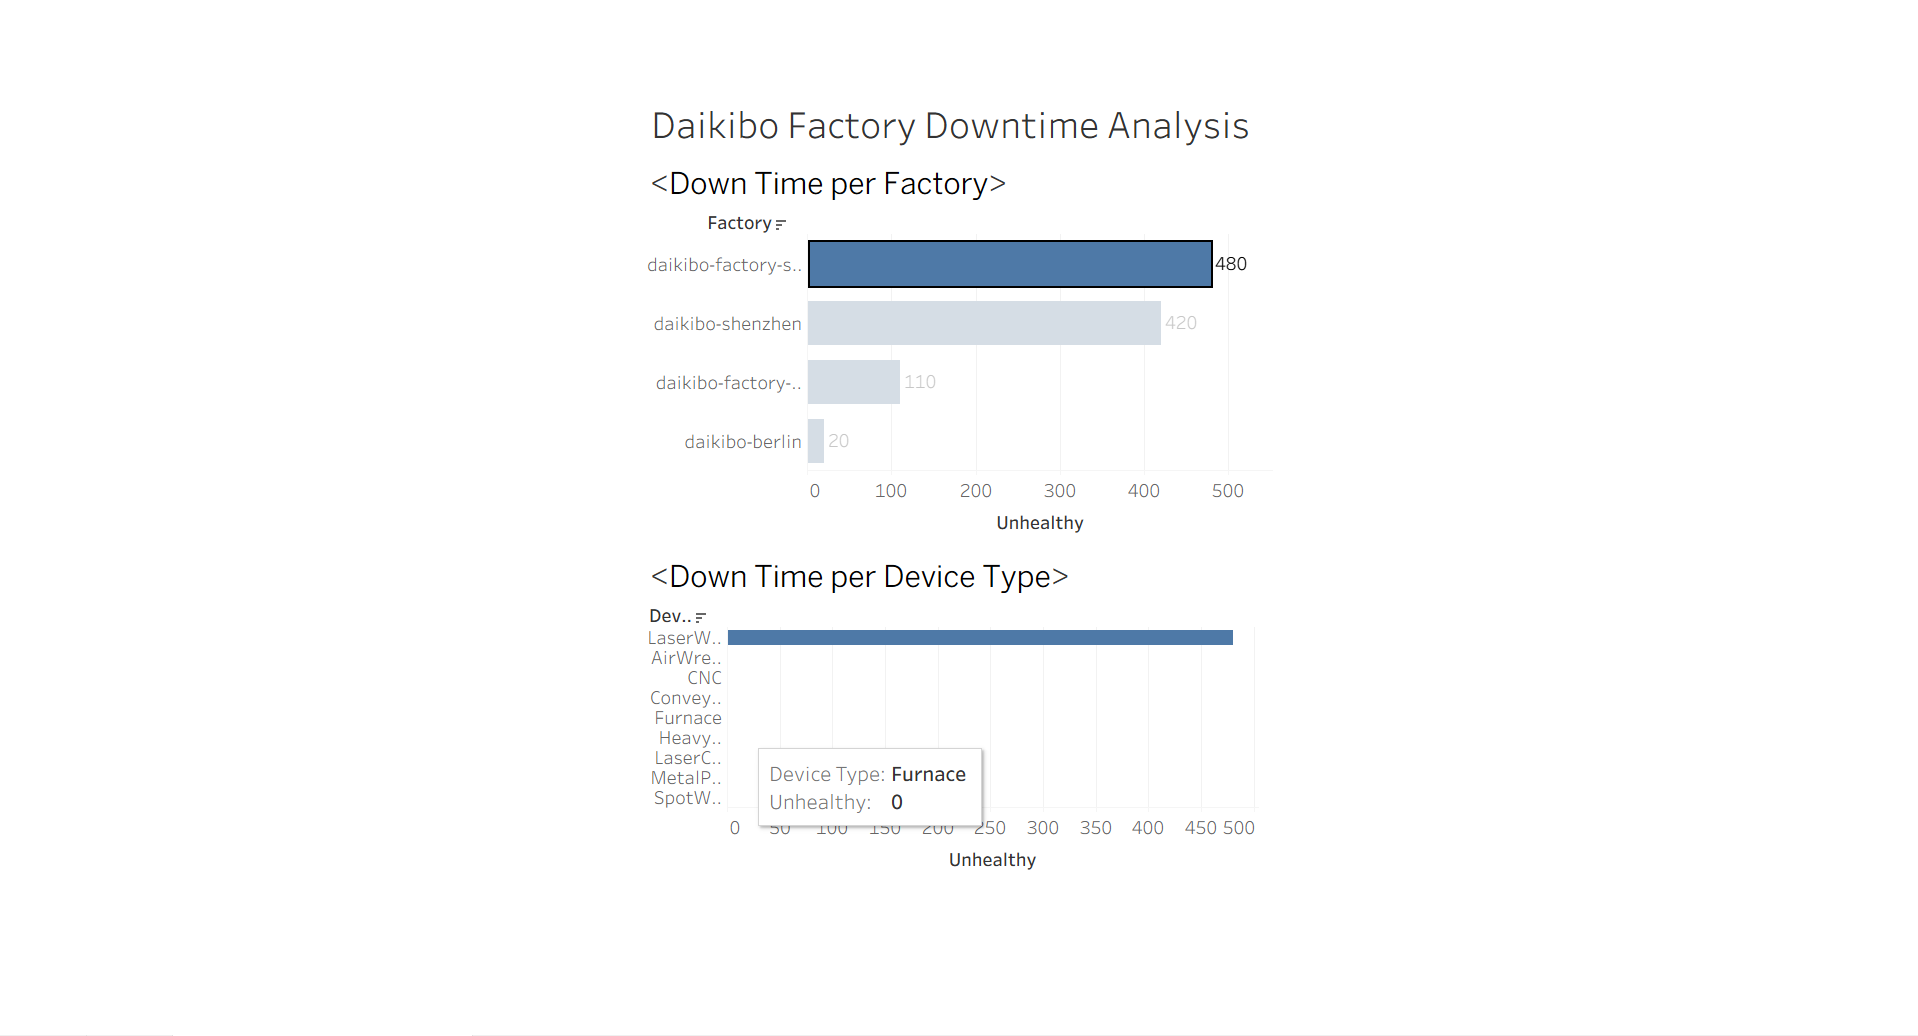

The page's visual inventory and layout, read from the dashboard file:
{"tool":"tableau","page":{"name":"Daikibo Factory Downtime Analysis","canvas":[1000,1000],"units":"permille","ordinal":0},"visuals":[{"type":"title","box":[12.3,9.9,975.4,71.9]},{"type":"worksheet","title":"Sheet 1","mark":"Bar","rows":["factory"],"cols":["Calculation_1078950302547968"],"box":[12.3,81.8,975.4,454.1]},{"type":"worksheet","title":"Sheet 2","mark":"Automatic","rows":["deviceType"],"cols":["Calculation_1078950302547968"],"box":[12.3,535.9,975.4,454.2]}]}

Visuals, with their boxes on the dashboard's canvas, which has no fixed pixel size, in thousandths of its width and height (x1, y1, x2, y2). These are canvas units, not pixel positions in the 1918x1036 screenshot, which may show the page scaled, cropped or inside an application window:
title: bbox(12, 10, 988, 82)
"Sheet 1" worksheet (Bar marks): bbox(12, 82, 988, 536)
"Sheet 2" worksheet: bbox(12, 536, 988, 990)
